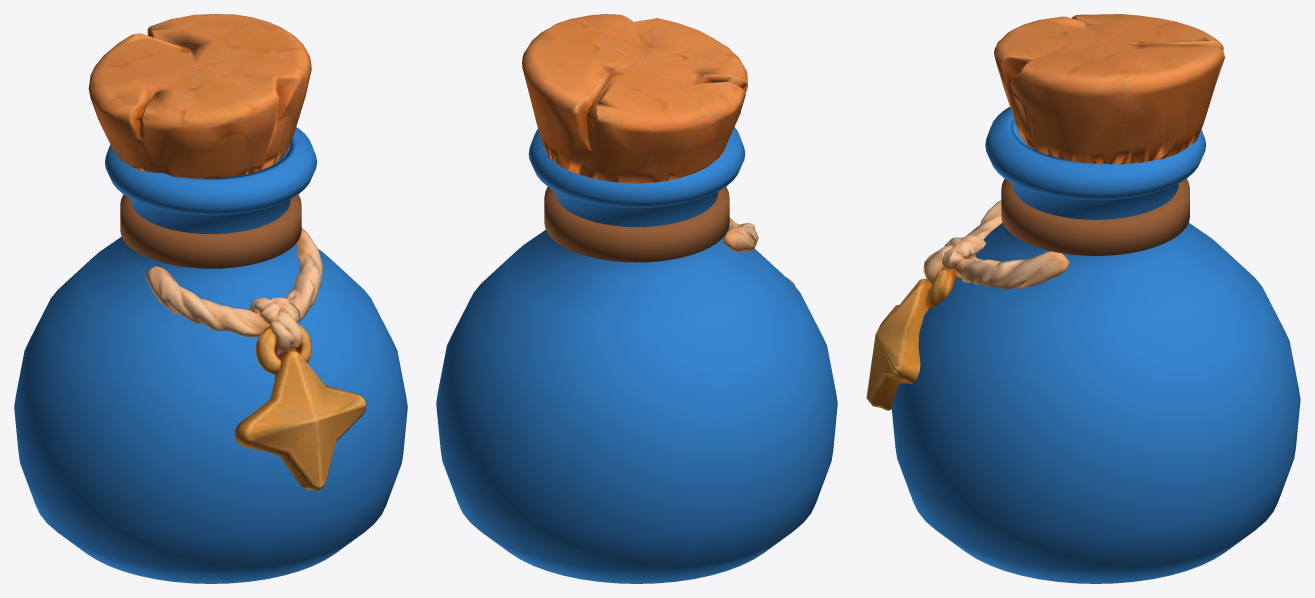
The model's file is potion-shared.web.glb.
The picture shows the model from 3 angles, left to right: view 1: azimuth 30°, elevation 25°; view 2: azimuth 150°, elevation 25°; view 3: azimuth 270°, elevation 25°; orthographic projection. The views are drawn at different scales.
Parts seen in each view (by area): view 1: potion-shared; view 2: potion-shared; view 3: potion-shared.
Part boxes in pixels (x1,y1,x2,y2): potion-shared: (14,14,407,583); potion-shared: (436,14,837,583); potion-shared: (866,14,1300,583).
Size of the model in its own units: 0.1207 by 0.16 by 0.1279.
5 materials, 1 textured.
